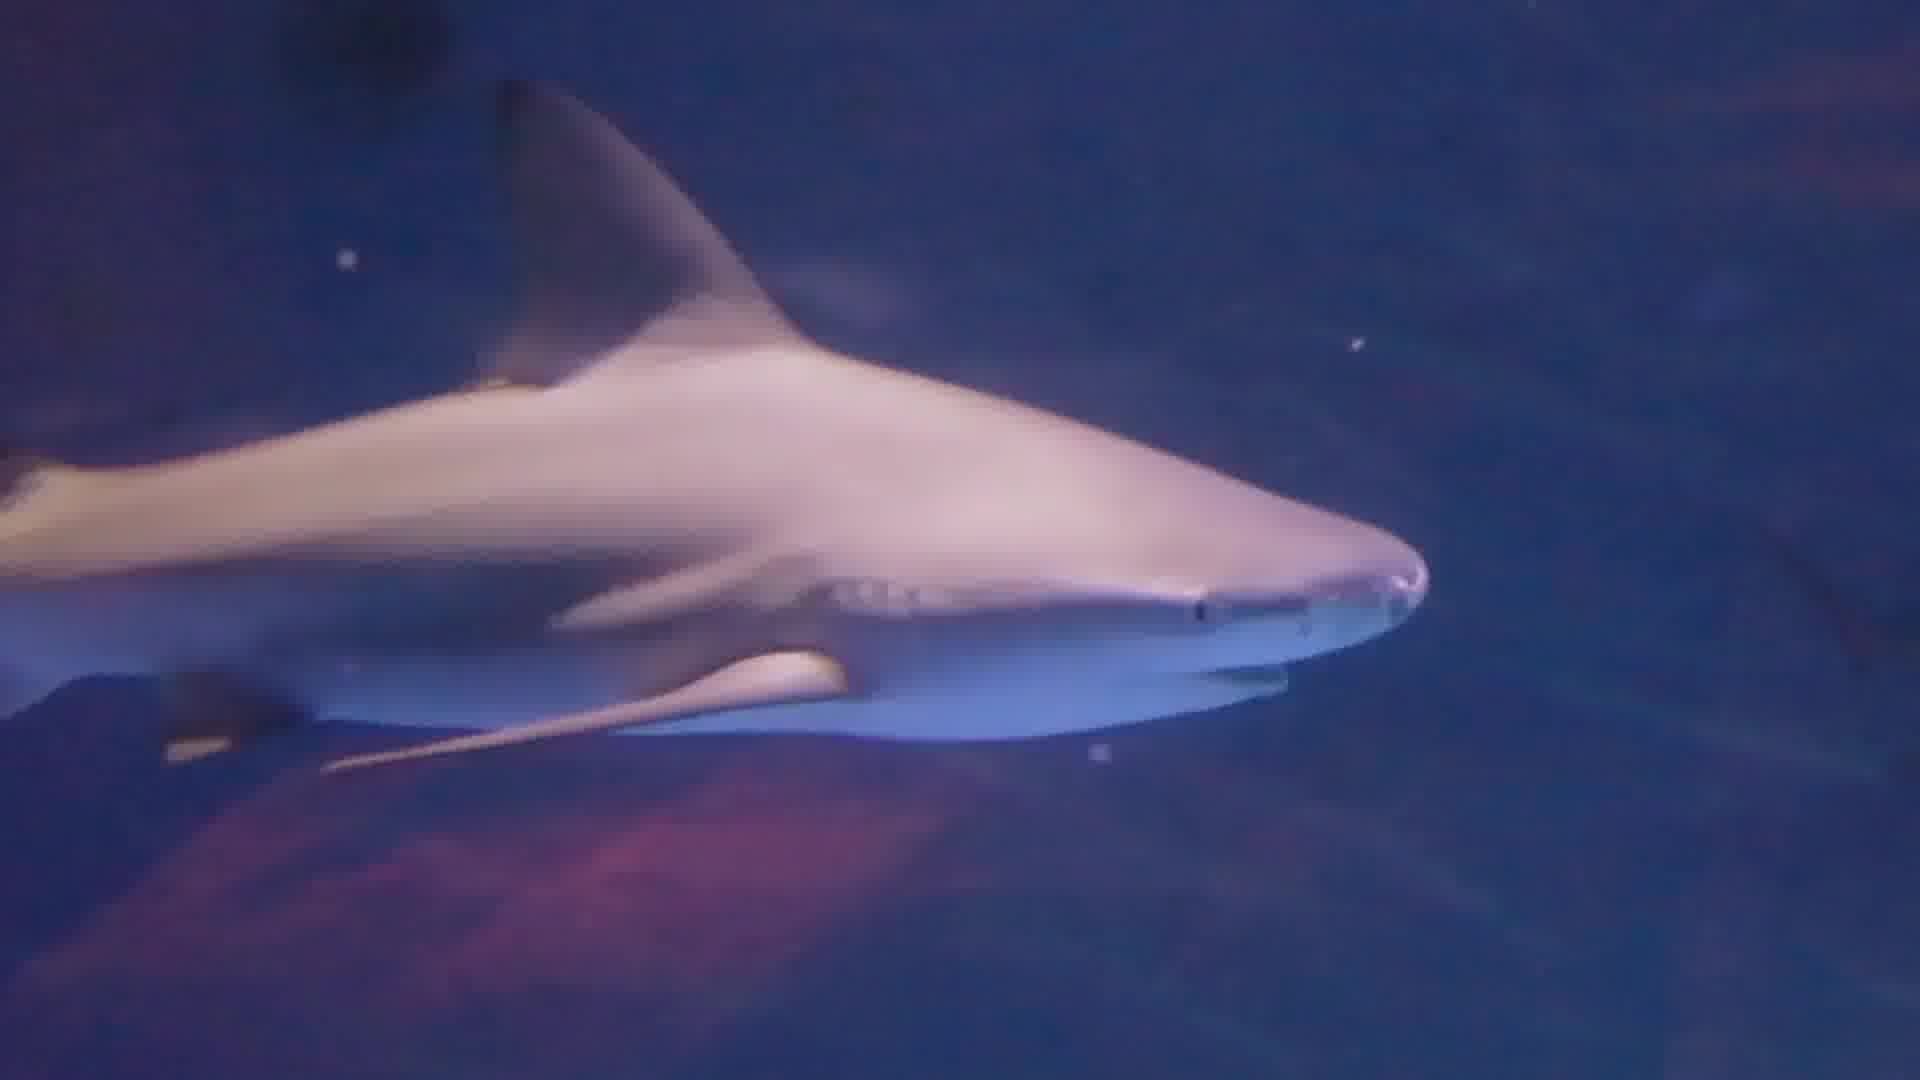Carcharhinus leucas: (11, 69, 1428, 802)
